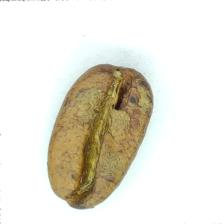NG: (81, 70, 151, 152)
